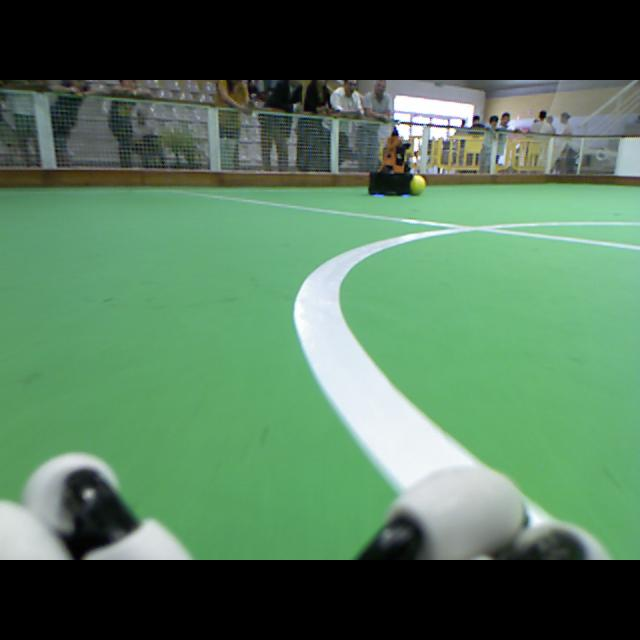ball: (410, 176, 423, 197)
robot: (369, 121, 413, 195)
